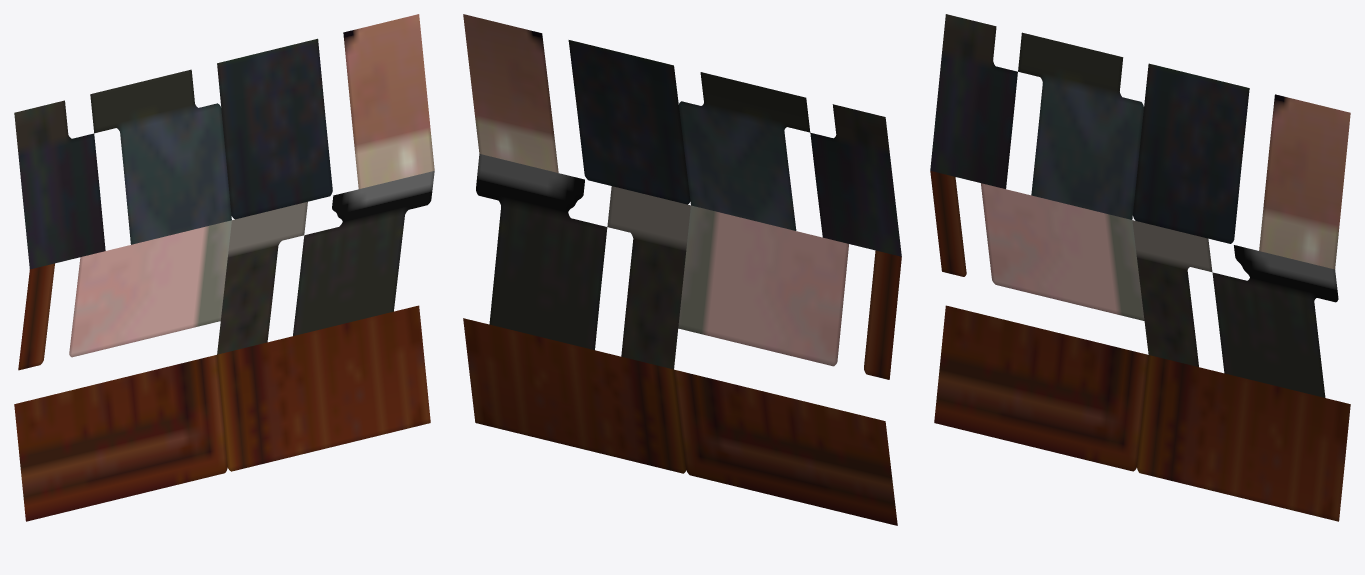
3 views of the same model, side by side, from view 1: azimuth 30°, elevation 25°; view 2: azimuth 150°, elevation 25°; view 3: azimuth 330°, elevation 25° (orthographic). The views are drawn at different scales.
Parts seen in each view (by area): view 1: T1L6M004_17; view 2: T1L6M004_17; view 3: T1L6M004_17.
Part boxes in pixels (<box>): T1L6M004_17: <box>14,14,434,521</box>; T1L6M004_17: <box>463,14,901,525</box>; T1L6M004_17: <box>930,14,1350,521</box>.
Size of the model in its own units: 0.6006 by 0.6191 by 0.04.
